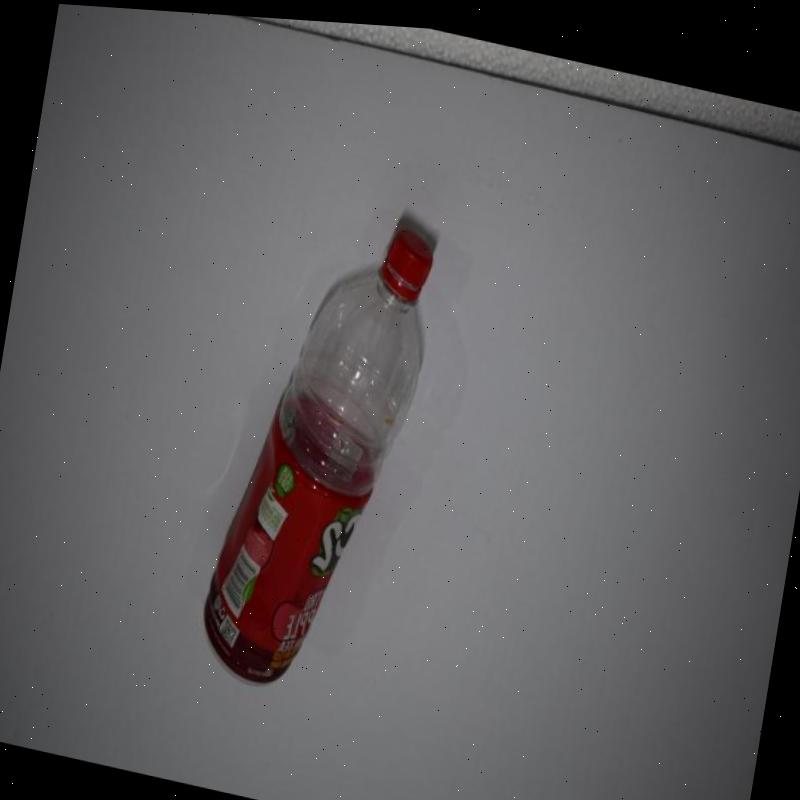botella: (191, 190, 440, 713)
